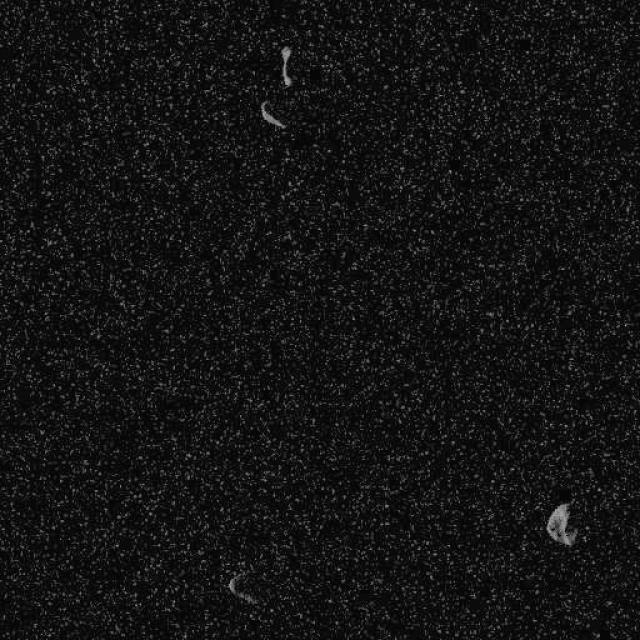D2: (545, 502, 577, 546), (226, 570, 256, 606), (259, 99, 286, 129), (278, 44, 294, 88)
